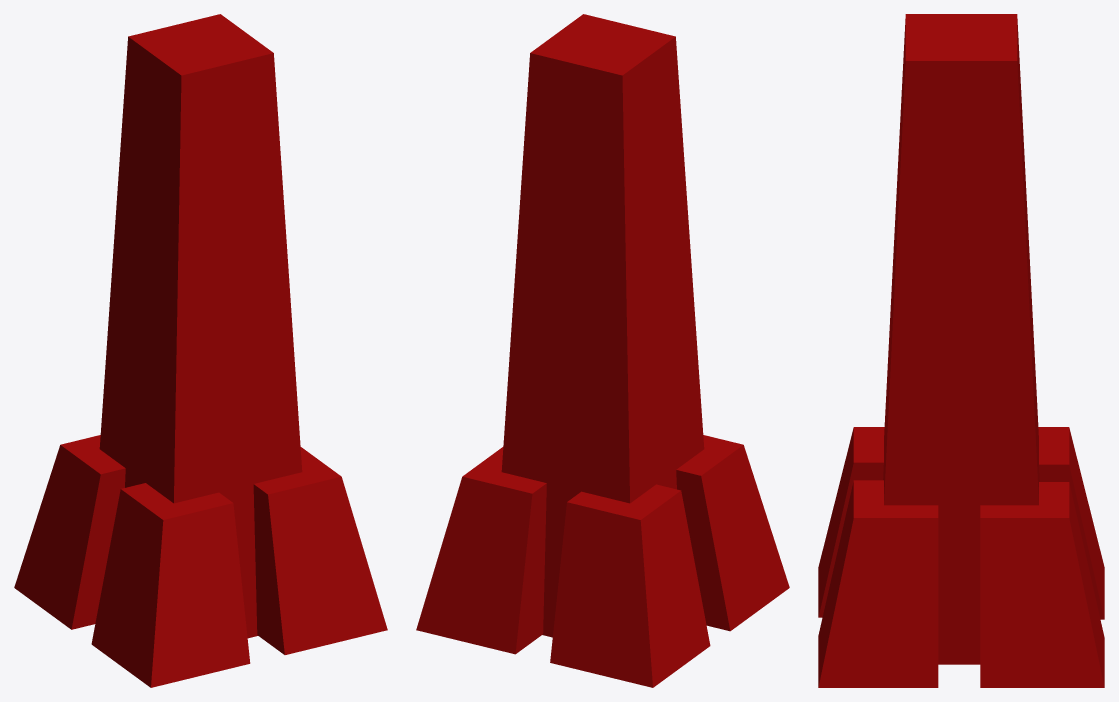
The model's file is SM_Env_Monolith_01_Collision.glb.
The picture shows the model from 3 angles, left to right: view 1: azimuth 30°, elevation 25°; view 2: azimuth 150°, elevation 25°; view 3: azimuth 270°, elevation 25°; orthographic projection. The views are drawn at different scales.
Parts seen in each view (by area): view 1: SM_Env_Monolith_01_Collision; view 2: SM_Env_Monolith_01_Collision; view 3: SM_Env_Monolith_01_Collision.
Part boxes in pixels (x1=…): SM_Env_Monolith_01_Collision: x1=14, y1=14, x2=387, y2=687; SM_Env_Monolith_01_Collision: x1=416, y1=14, x2=789, y2=687; SM_Env_Monolith_01_Collision: x1=818, y1=14, x2=1104, y2=687.
Bounding box in the file's own units: 3.64 × 8.31 × 3.64.
